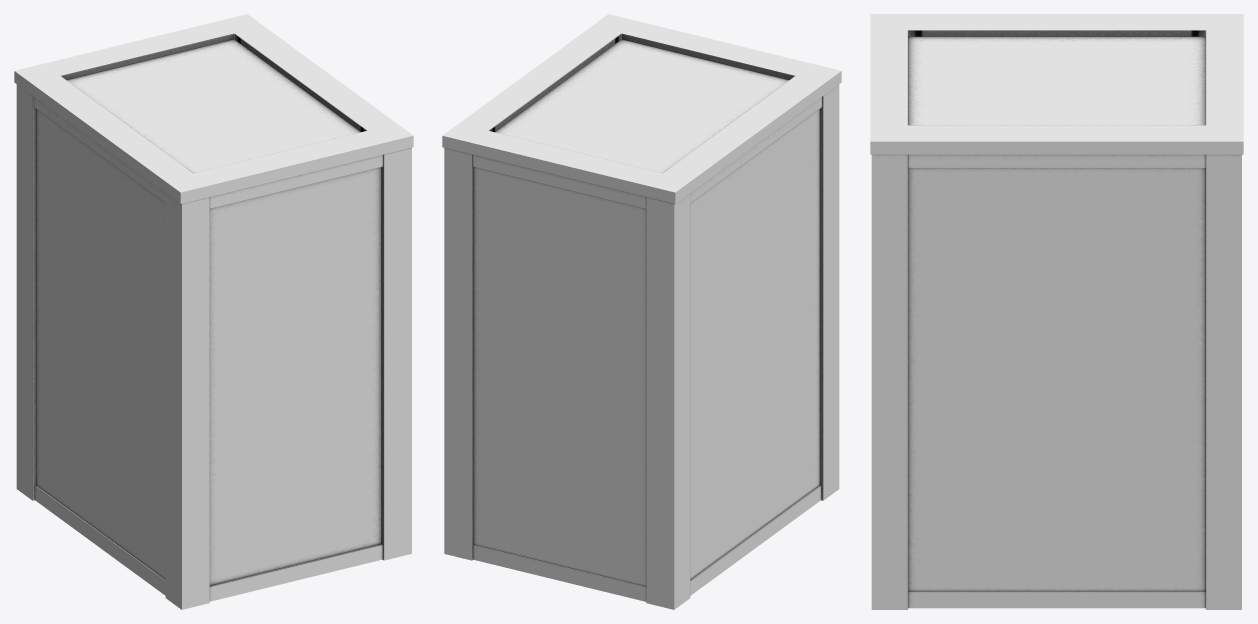
Rendered from korzina.FBX.
3 renders of one model, left to right at view 1: azimuth 30°, elevation 25°; view 2: azimuth 150°, elevation 25°; view 3: azimuth 270°, elevation 25°, orthographic. The views are drawn at different scales.
Parts seen in each view (by area): view 1: Box004; view 2: Box004; view 3: Box004.
Part boxes in pixels (x1,y1,x2,y2): Box004: (14,14,413,609); Box004: (442,14,841,609); Box004: (870,14,1243,609).
Bounding box in the file's own units: 0.4176 × 0.716 × 0.516.
Materials: 1 (1 with a texture image).
